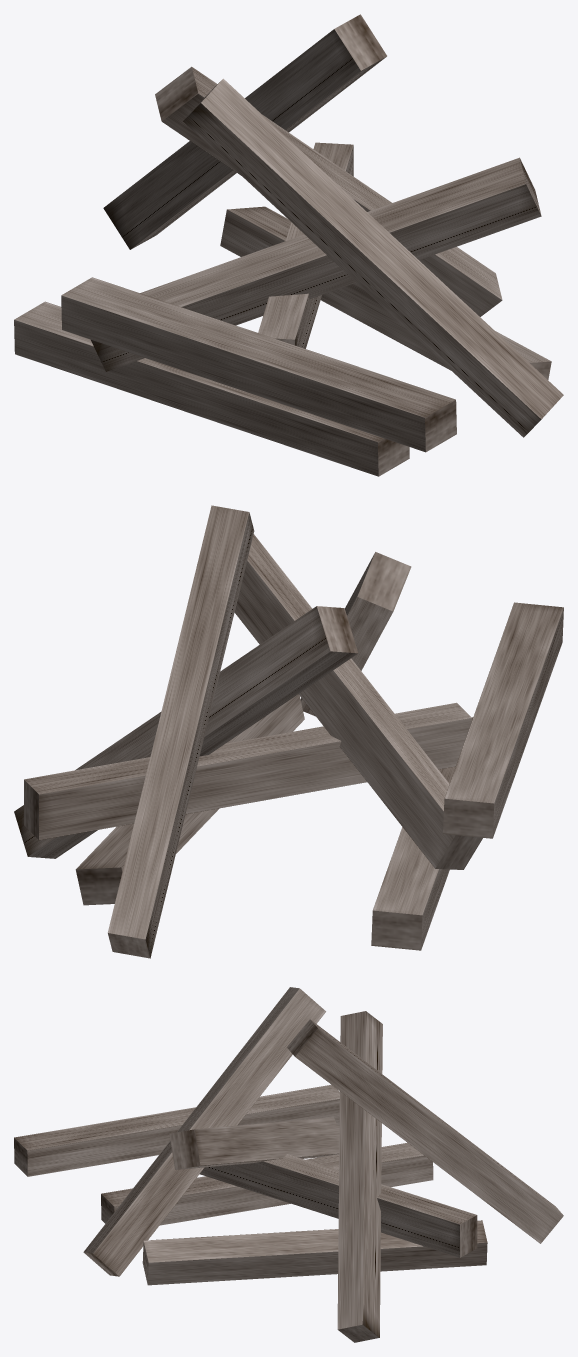
File: Quemable.obj
3 renders of one model, top to bottom at view 1: azimuth 30°, elevation 25°; view 2: azimuth 150°, elevation 25°; view 3: azimuth 270°, elevation 25°, orthographic. The views are drawn at different scales.
Visible parts, largest first — view 1: Cube.011_Cube.012; view 2: Cube.011_Cube.012; view 3: Cube.011_Cube.012.
Boxes of the visible parts, <box> form: Cube.011_Cube.012: <box>14,14,563,476</box>; Cube.011_Cube.012: <box>14,505,563,958</box>; Cube.011_Cube.012: <box>14,987,563,1342</box>.
Size of the model in its own units: 2.26 by 1.73 by 3.21.
Materials: 1 (1 with a texture image).
